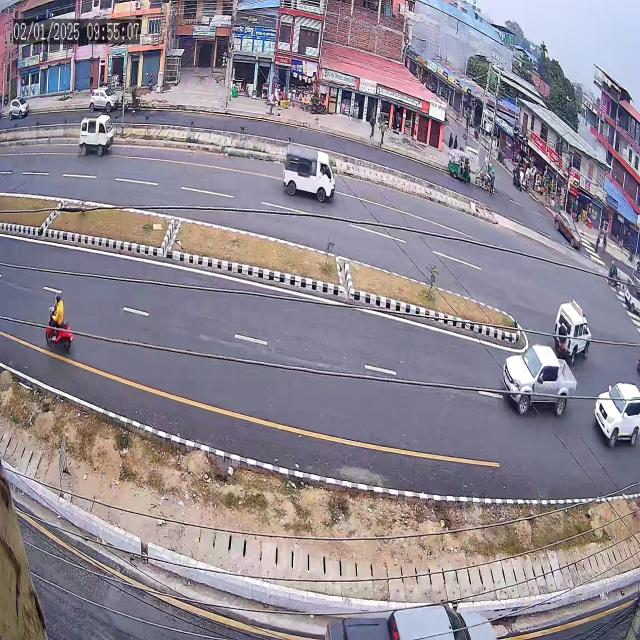car: (492, 341, 580, 427), (545, 287, 600, 368), (588, 372, 640, 448), (548, 202, 585, 254), (6, 91, 36, 125)
motorcycle: (36, 283, 85, 355), (607, 250, 621, 292)
van: (275, 132, 345, 208), (62, 106, 120, 160), (621, 267, 640, 319)
